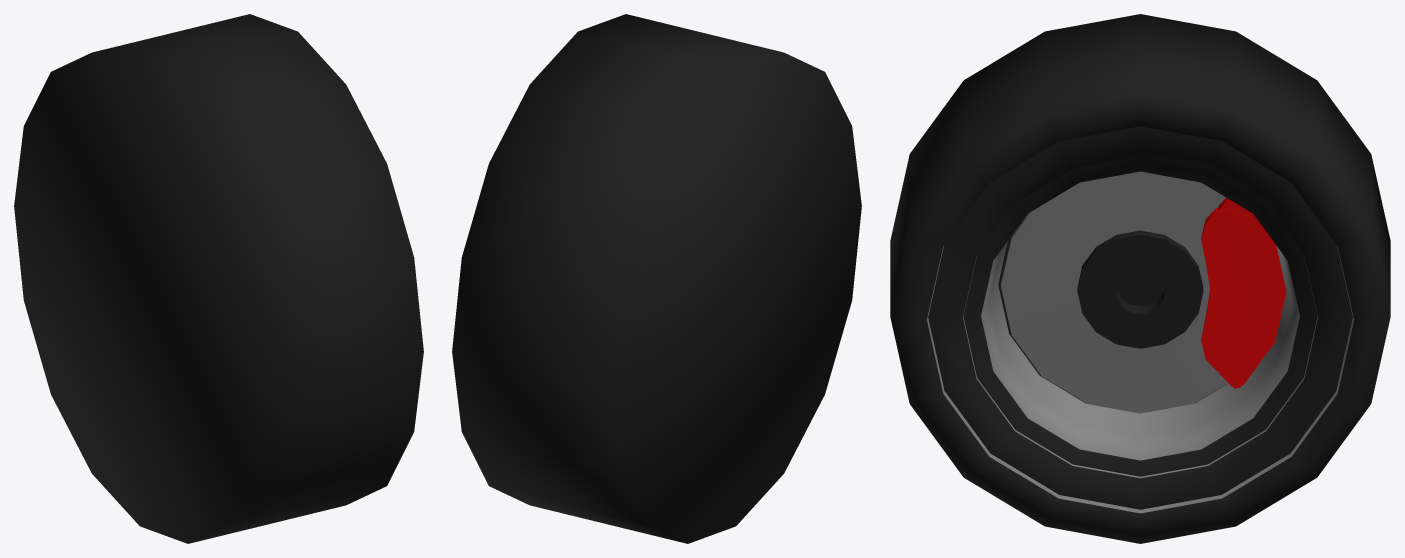
Rendered from Tires.fbx.
The picture shows the model from 3 angles, left to right: view 1: azimuth 30°, elevation 25°; view 2: azimuth 150°, elevation 25°; view 3: azimuth 270°, elevation 25°; orthographic projection.
Parts seen in each view (by area): view 1: Tire regular; view 2: Tire regular; view 3: Tire regular, Tire thick, Tire thin.
Part boxes in pixels (<box>): Tire regular: <box>14,14,423,543</box>; Tire regular: <box>452,14,861,543</box>; Tire regular: <box>890,14,1390,509</box>; Tire thick: <box>963,156,1317,476</box>; Tire thin: <box>890,90,1390,543</box>.
Size of the model in its own units: 0.6075 by 1.62 by 1.62.
